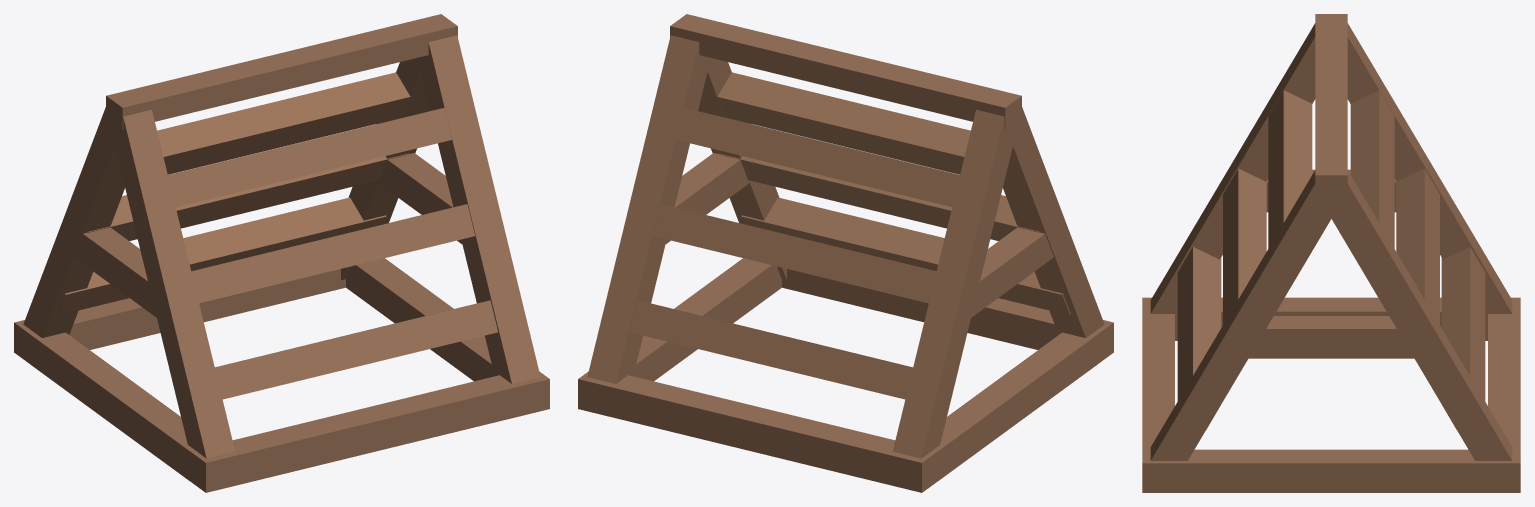
File: WeaponRack.fbx
3 views of the same model, side by side, from view 1: azimuth 30°, elevation 25°; view 2: azimuth 150°, elevation 25°; view 3: azimuth 270°, elevation 25° (orthographic).
Parts seen in each view (by area): view 1: Cube.002, Cube, Cube.005, Cube.006, Cube.003, Cube.007, Cube.001, Cube.004; view 2: Cube.002, Cube, Cube.005, Cube.006, Cube.003, Cube.007, Cube.001, Cube.004; view 3: Cube.002, Cube.007, Cube, Cube.005, Cube.006, Cube.003, Cube.004, Cube.001.
Boxes of the visible parts, bbox=[...] form: Cube.002: bbox=[23, 35, 540, 458]; Cube: bbox=[14, 269, 549, 492]; Cube.005: bbox=[157, 72, 452, 206]; Cube.006: bbox=[57, 197, 497, 399]; Cube.003: bbox=[88, 153, 475, 303]; Cube.007: bbox=[30, 258, 494, 480]; Cube.001: bbox=[106, 14, 457, 129]; Cube.004: bbox=[74, 153, 462, 317]; Cube.002: bbox=[587, 35, 1104, 458]; Cube: bbox=[578, 269, 1113, 492]; Cube.005: bbox=[675, 72, 970, 206]; Cube.006: bbox=[630, 197, 1070, 399]; Cube.003: bbox=[652, 153, 1039, 303]; Cube.007: bbox=[633, 258, 1097, 480]; Cube.001: bbox=[670, 14, 1021, 129]; Cube.004: bbox=[665, 153, 1053, 317]; Cube.002: bbox=[1150, 23, 1512, 460]; Cube.007: bbox=[1174, 297, 1487, 492]; Cube: bbox=[1142, 297, 1520, 492]; Cube.005: bbox=[1268, 90, 1394, 248]; Cube.006: bbox=[1177, 247, 1485, 427]; Cube.003: bbox=[1223, 168, 1439, 324]; Cube.004: bbox=[1248, 169, 1414, 358]; Cube.001: bbox=[1315, 14, 1347, 196].
Bounding box in the file's own units: 600 × 580 × 533.
